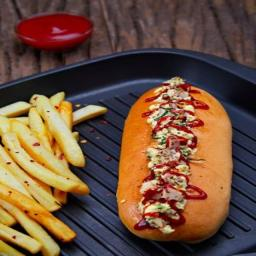hotdog: (116, 76, 243, 254), (0, 84, 111, 256)
